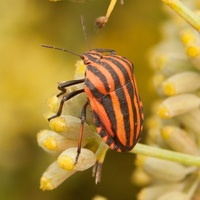insect: (38, 45, 143, 189), (61, 92, 87, 119)
